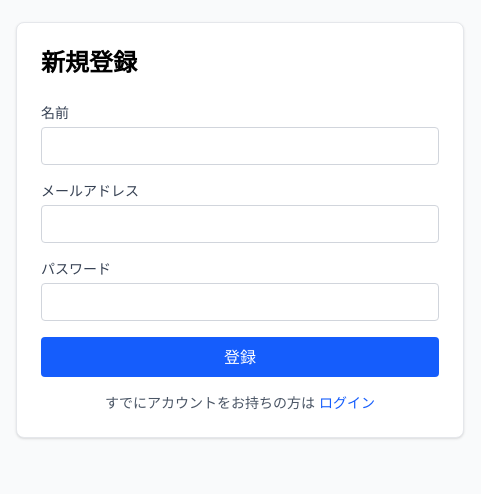
RegisterPage › 未入力でフォーム送信するとエラーを表示する
Click the button "登録": x=240, y=357 x1=41 y1=337 x2=439 y2=377
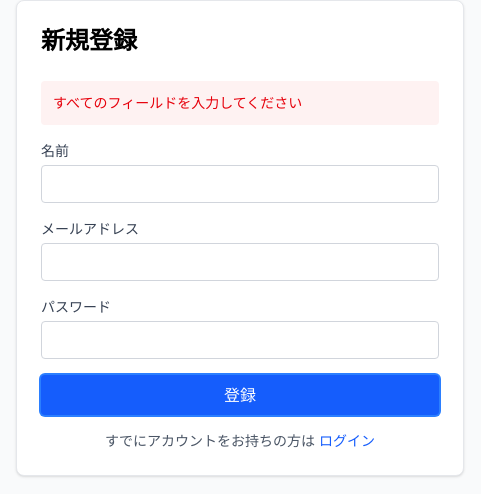
Expected: the message reads "すべてのフィールドを入力してください", x1=53 y1=94 x2=302 y2=111
